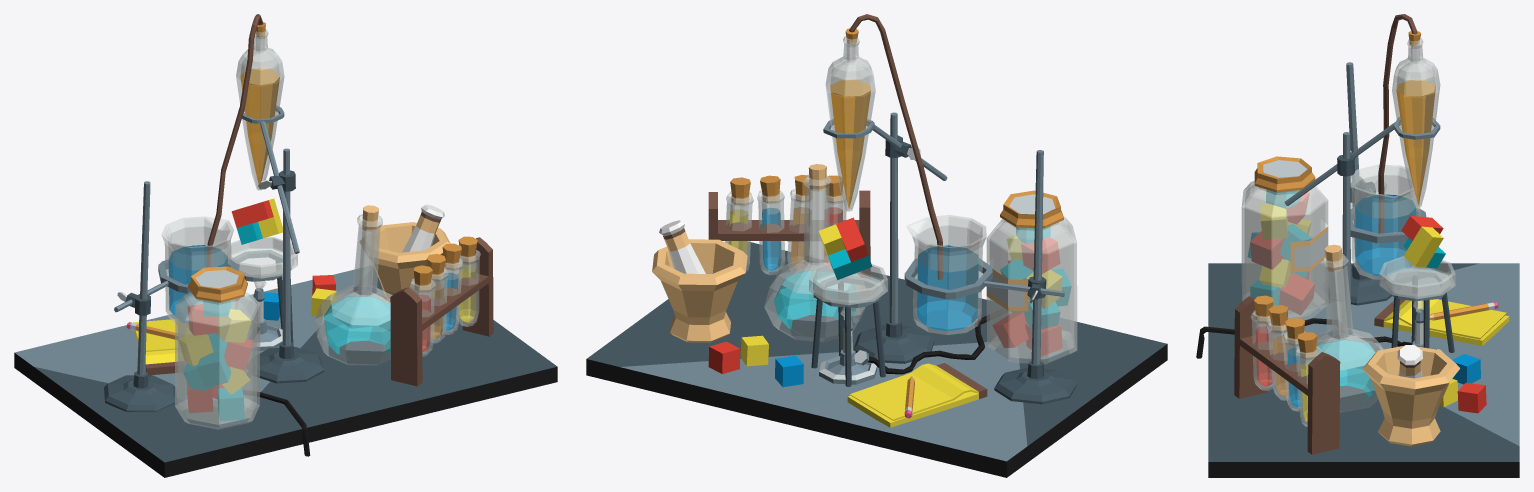
The model's file is lab.glb.
3 renders of one model, left to right at view 1: azimuth 30°, elevation 25°; view 2: azimuth 150°, elevation 25°; view 3: azimuth 270°, elevation 25°, orthographic. The views are drawn at different scales.
Parts seen in each view (by area): view 1: group1375820898, group2106230461; view 2: group1375820898, group2106230461; view 3: group1375820898, group2106230461.
Part boxes in pixels (x1,y1,x2,y2): group1375820898: (14, 14, 557, 477); group2106230461: (161, 29, 480, 429); group1375820898: (586, 14, 1167, 477); group2106230461: (725, 36, 1077, 363); group1375820898: (1196, 14, 1519, 477); group2106230461: (1241, 38, 1455, 426).
Bounding box in the file's own units: 2.4 × 2.07 × 1.65.
Materials: 2 (2 with a texture image).
